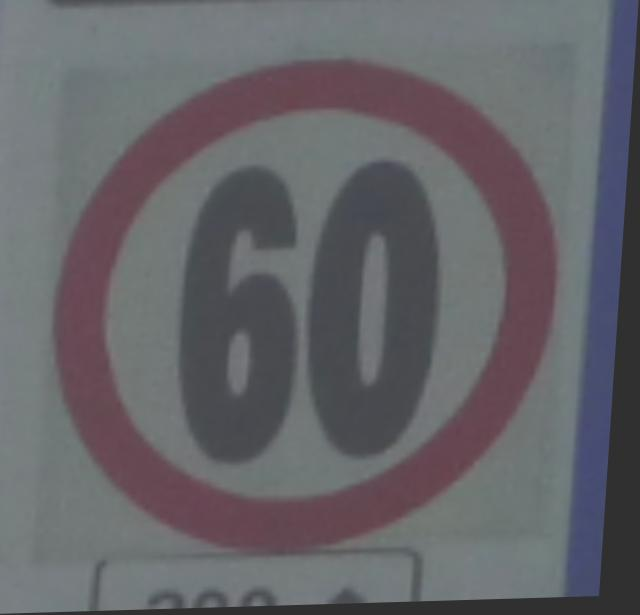limit60: (26, 38, 585, 571)
